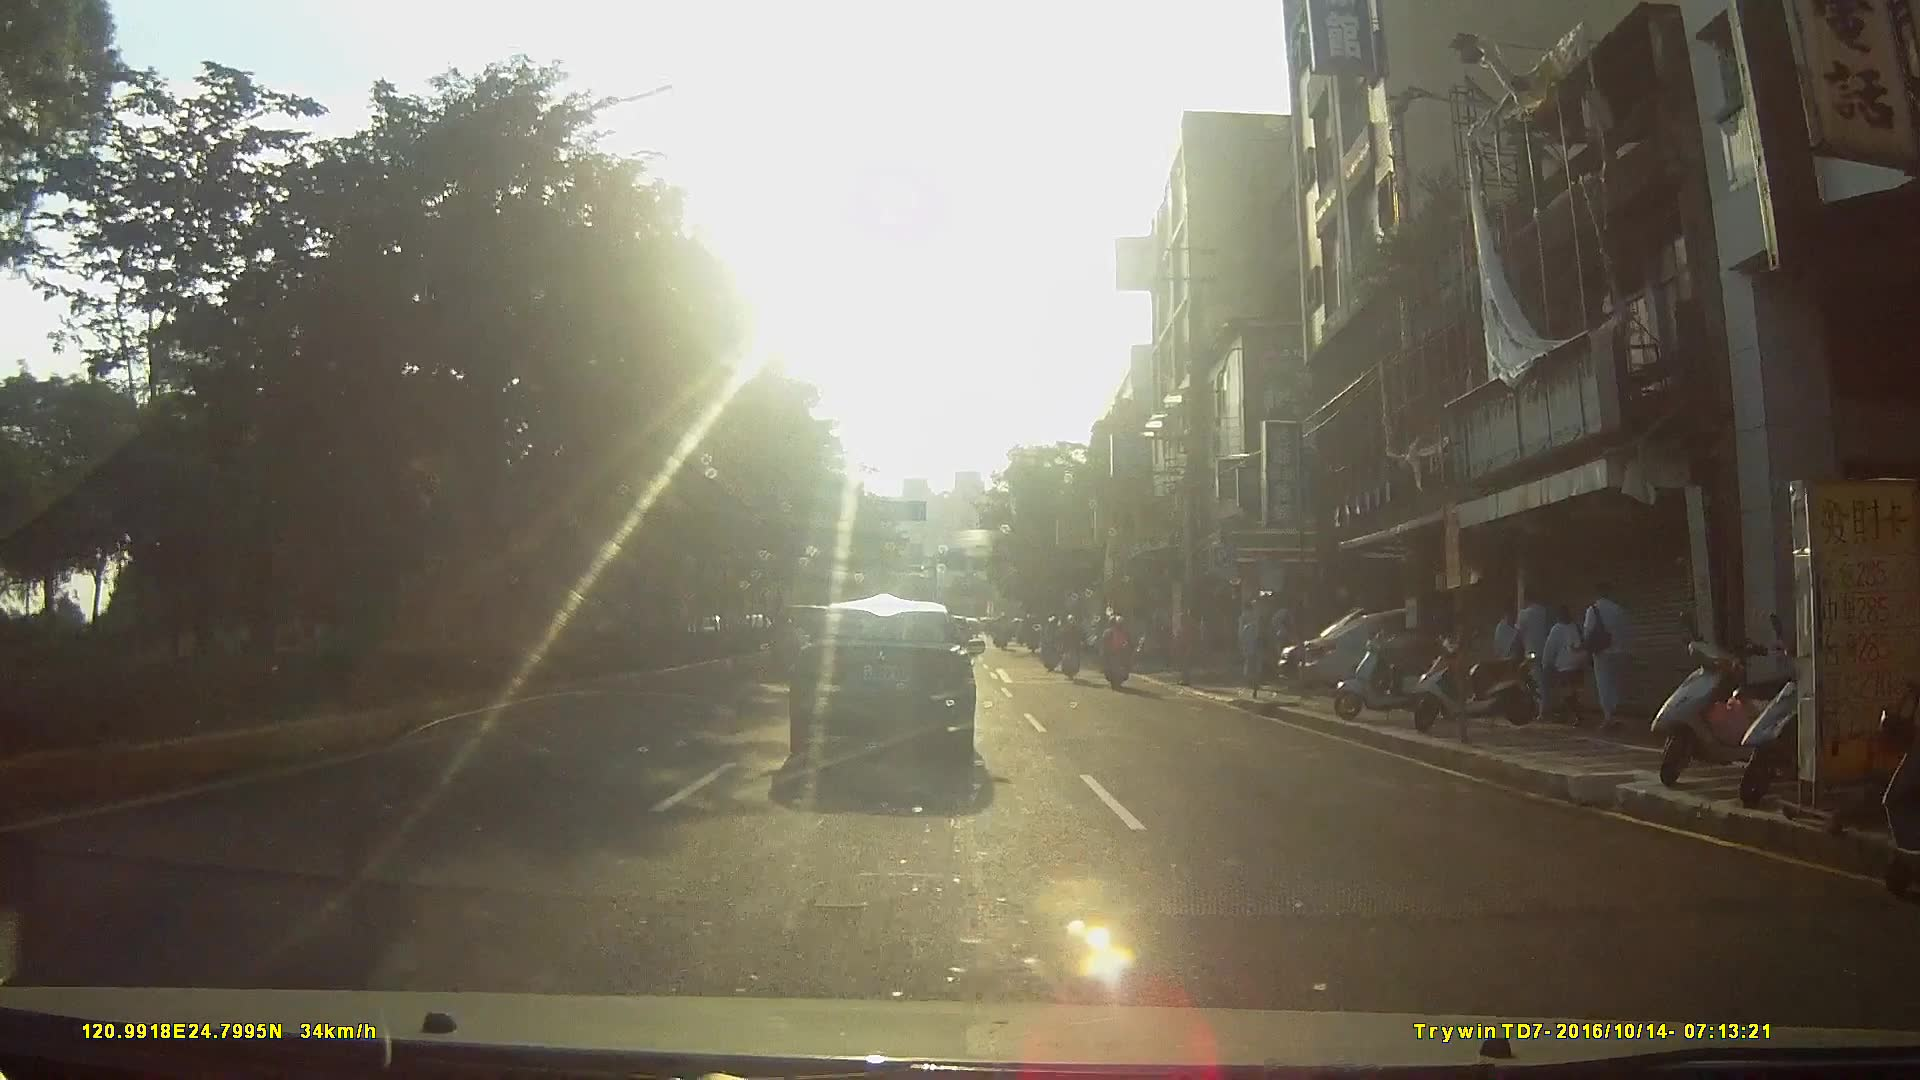pedestrian: (1579, 576, 1628, 726), (1540, 602, 1595, 720), (1511, 583, 1554, 705), (1236, 603, 1268, 700)
rider: (1102, 614, 1138, 694), (1058, 614, 1087, 682), (1040, 616, 1064, 675)
vehicle: (783, 597, 995, 788), (1301, 593, 1561, 701)
